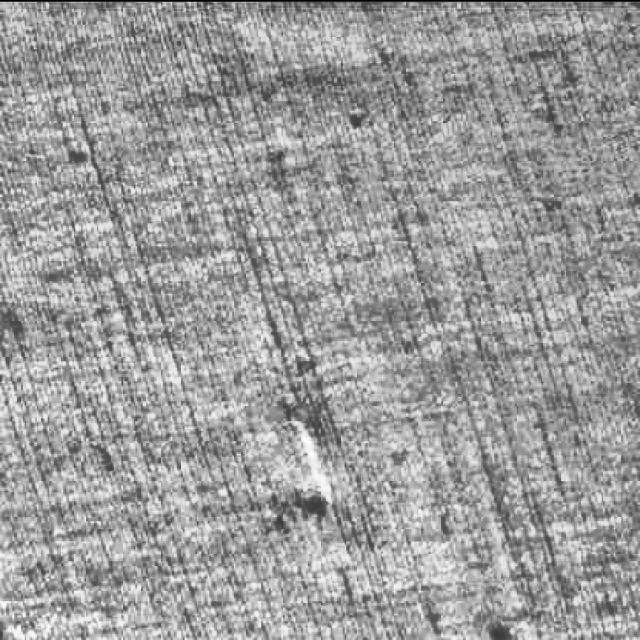thread_error: (281, 391, 354, 549)
